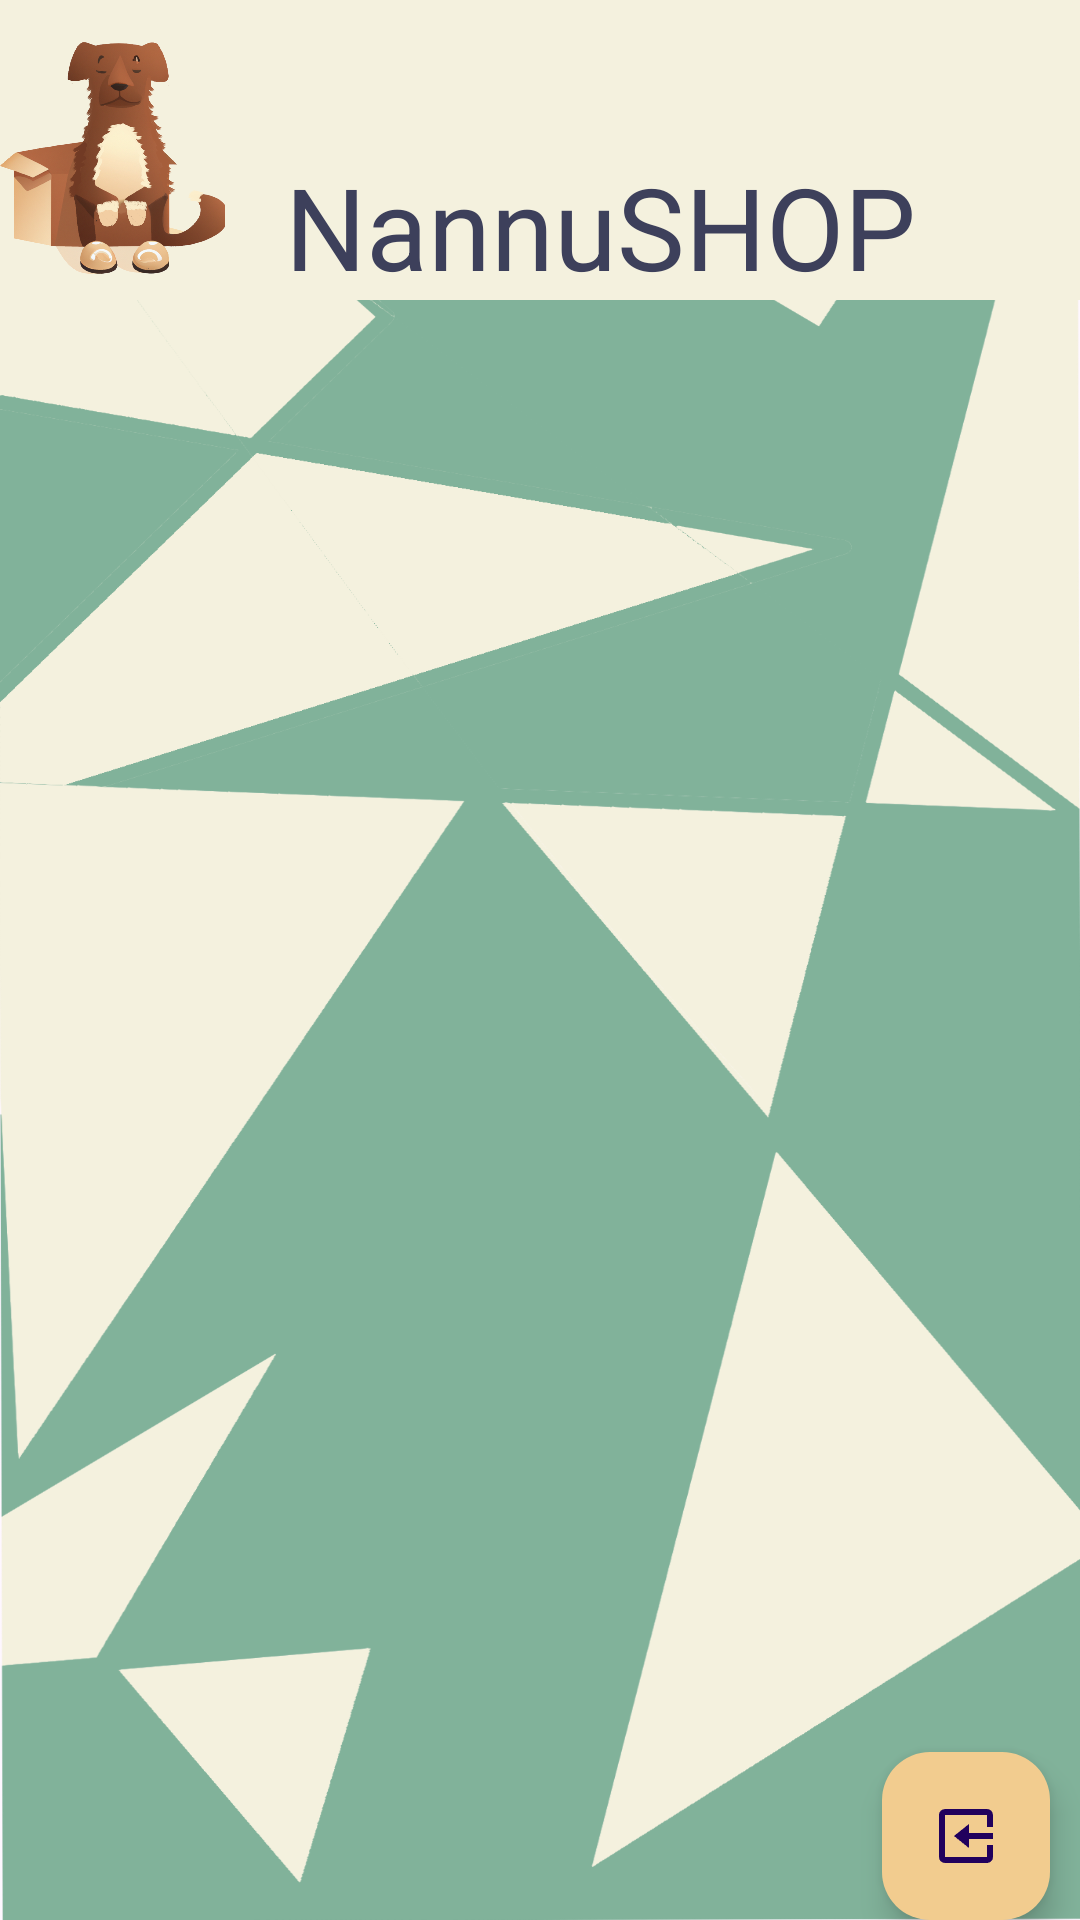

Screen size 1080*1920. Icon name, then its box in pixels as (x1, y1, x2, y2):
exit: (882, 1752, 1050, 1920)
